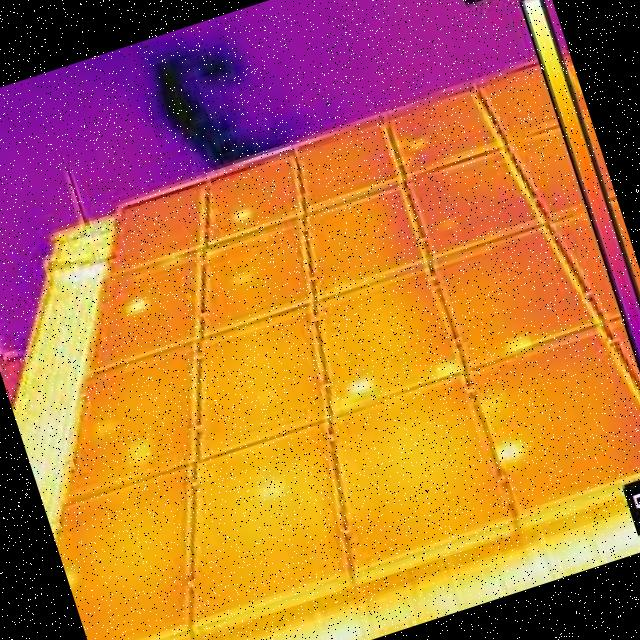Hotspot: (486, 424, 534, 474), (250, 466, 300, 512), (121, 431, 162, 472), (341, 368, 382, 404), (426, 351, 466, 384), (496, 328, 536, 361), (227, 262, 260, 292), (120, 293, 152, 317), (406, 133, 432, 155), (64, 562, 85, 588), (230, 206, 256, 224)
